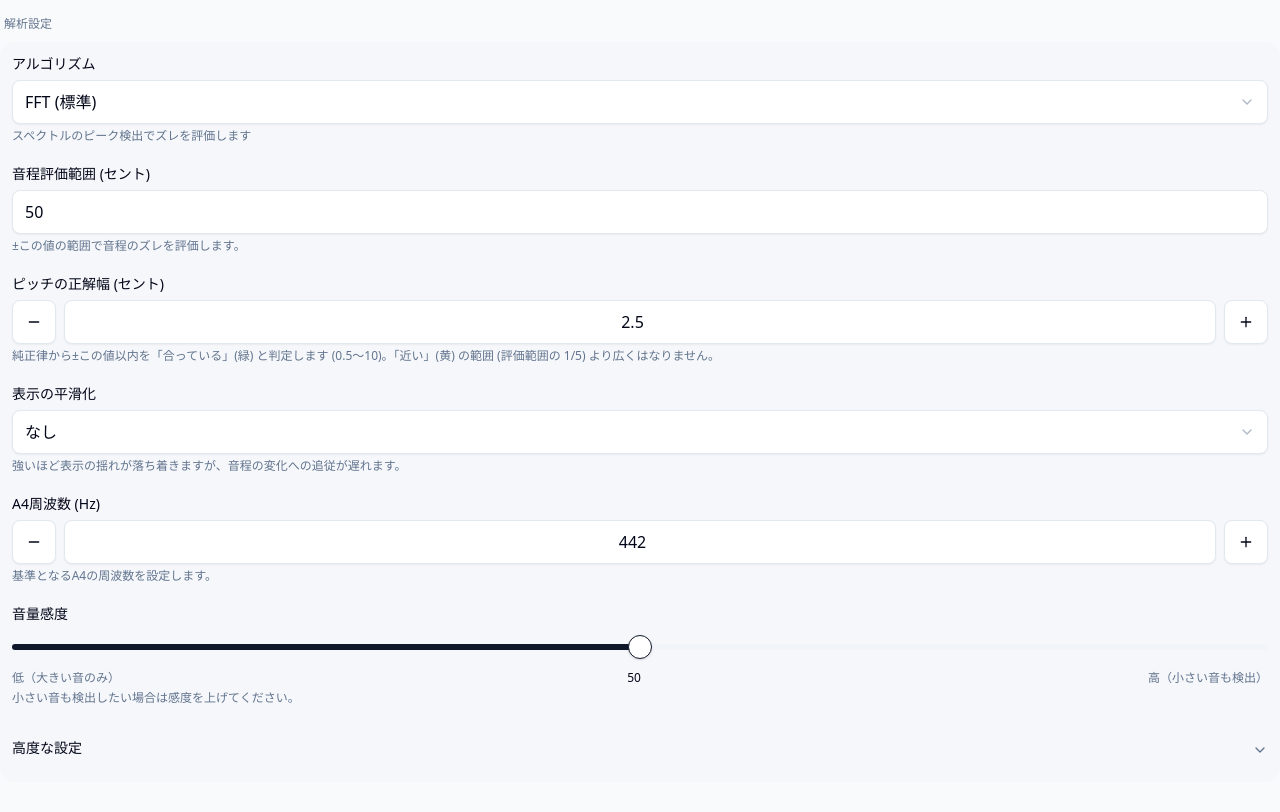
Scenario: SettingsForm: ピッチの正解幅 › 入力は確定時に範囲内へ収め、0.5 刻みに丸める
The image size is (1280, 812).
# 入力途中は反映しない
Replace the text in the number field labelled "ピッチの正解幅 (セント)" with "0.7": x=640, y=322 [64,300,1216,344]
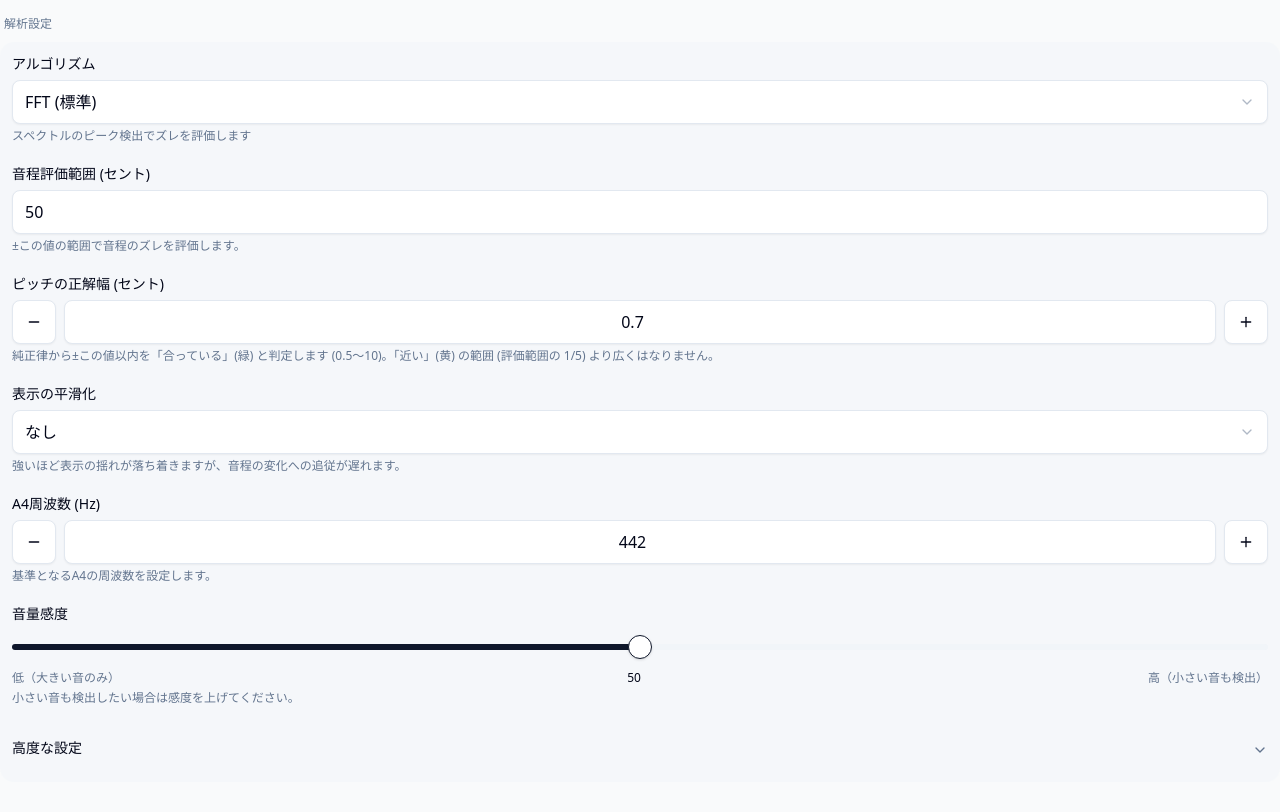
Leave the number field labelled "ピッチの正解幅 (セント)", box [64,300,1216,344]
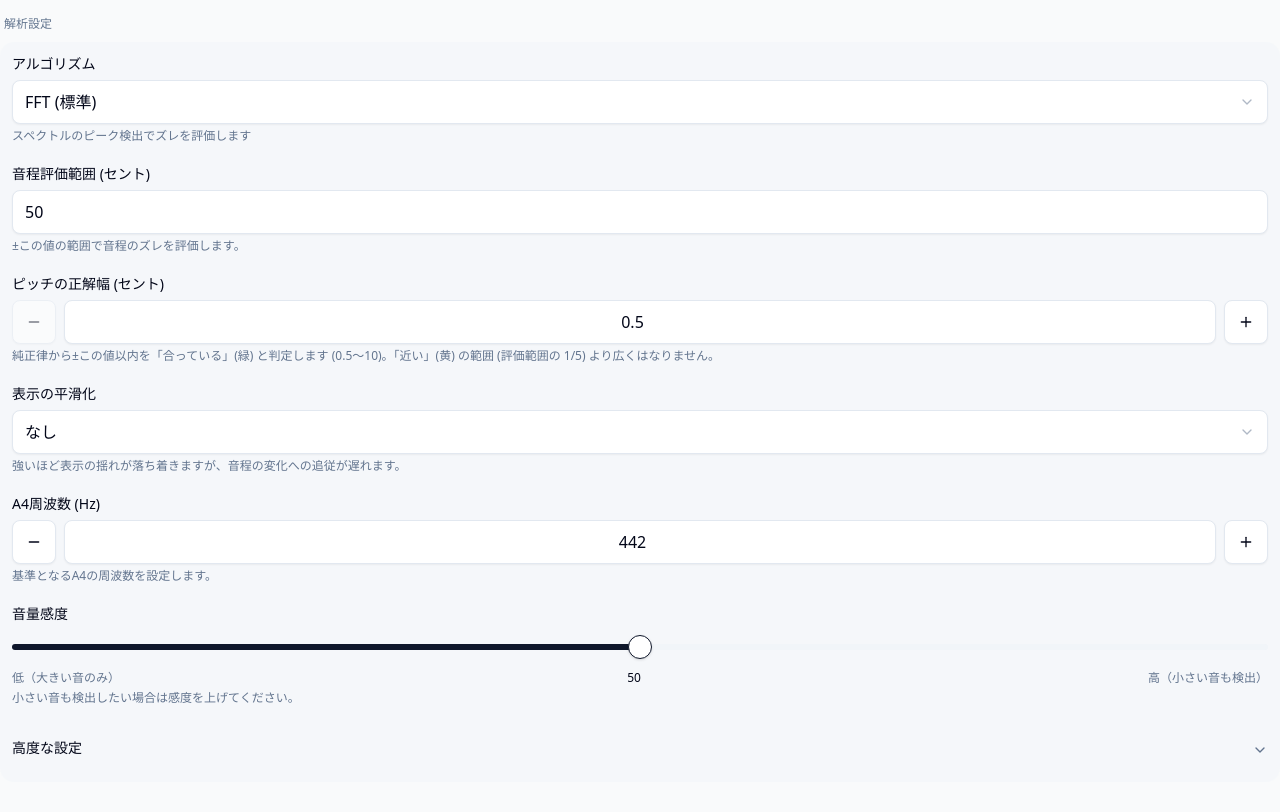
Replace the text in the number field labelled "ピッチの正解幅 (セント)" with "25": x=640, y=322 [64,300,1216,344]
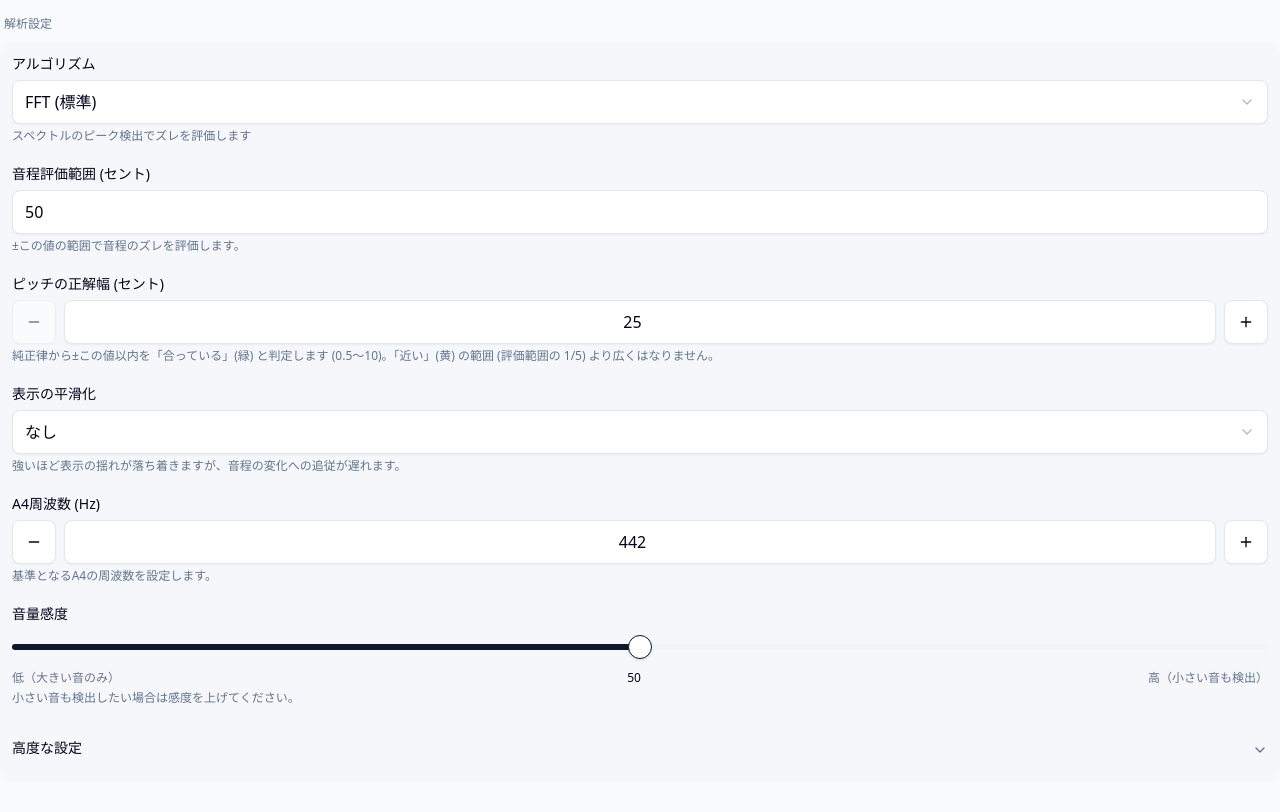
Press Enter in the number field labelled "ピッチの正解幅 (セント)", box [64,300,1216,344]
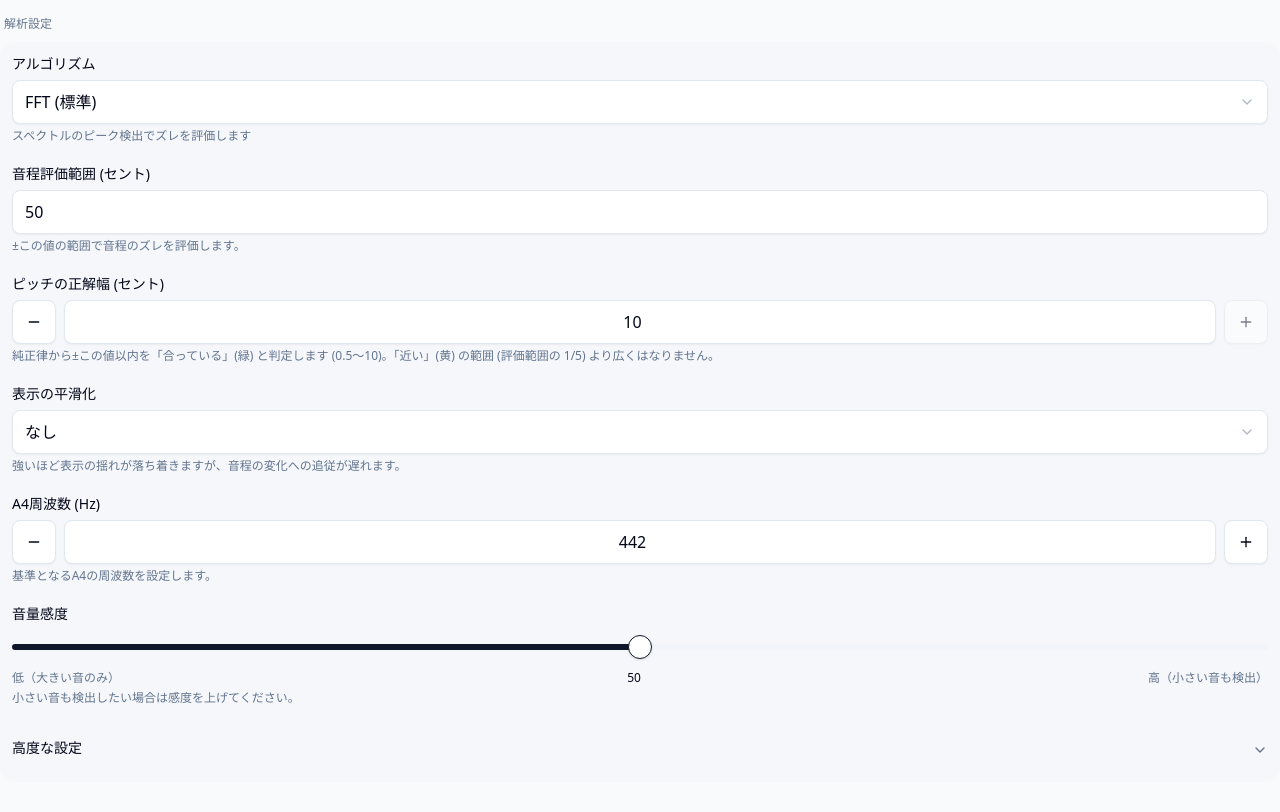
Result: the number field labelled "ピッチの正解幅 (セント)" holds "10" at [64,300,1216,344]
